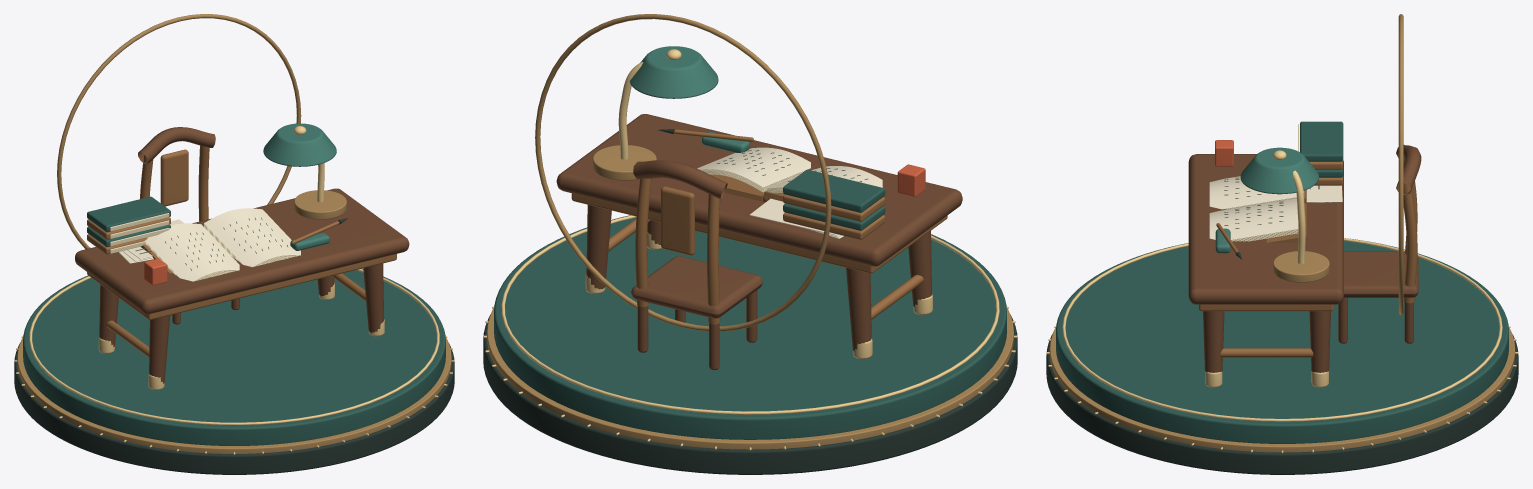
3 views of the same model, side by side, from view 1: azimuth 30°, elevation 25°; view 2: azimuth 150°, elevation 25°; view 3: azimuth 270°, elevation 25° (orthographic). The views are drawn at different scales.
Parts seen in each view (by area): view 1: architecture__深墨玉 · polished jade.002, architecture__深色书案.001, architecture__玄色石.002, architecture__旧黄铜.002, architecture__宣纸.001, architecture__木纹边.001, architecture__暖金镶线.002, architecture__青绿石.001, architecture__旧书页.001, architecture__朱砂花.001; view 2: architecture__深墨玉 · polished jade.002, architecture__深色书案.001, architecture__玄色石.002, architecture__旧黄铜.002, architecture__木纹边.001, architecture__暖金镶线.002, architecture__宣纸.001, architecture__青绿石.001, architecture__朱砂花.001, architecture__旧书页.001; view 3: architecture__深墨玉 · polished jade.002, architecture__深色书案.001, architecture__玄色石.002, architecture__旧黄铜.002, architecture__宣纸.001, architecture__暖金镶线.002, architecture__木纹边.001, architecture__青绿石.001, architecture__朱砂花.001.
Part boxes in pixels (x1,y1,x2,y2): architecture__深墨玉 · polished jade.002: (23, 196, 445, 445); architecture__深色书案.001: (75, 127, 409, 383); architecture__玄色石.002: (14, 218, 454, 474); architecture__旧黄铜.002: (17, 14, 451, 453); architecture__宣纸.001: (118, 208, 300, 281); architecture__木纹边.001: (87, 145, 396, 357); architecture__暖金镶线.002: (14, 126, 454, 454); architecture__青绿石.001: (263, 123, 336, 250); architecture__旧书页.001: (110, 213, 298, 280); architecture__朱砂花.001: (144, 258, 167, 285); architecture__深墨玉 · polished jade.002: (494, 169, 1006, 439); architecture__深色书案.001: (556, 114, 962, 369); architecture__玄色石.002: (483, 129, 1017, 474); architecture__旧黄铜.002: (487, 14, 1013, 449); architecture__木纹边.001: (571, 129, 947, 324); architecture__暖金镶线.002: (483, 49, 1017, 450); architecture__宣纸.001: (697, 147, 882, 238); architecture__青绿石.001: (629, 46, 749, 152); architecture__朱砂花.001: (897, 164, 925, 196); architecture__旧书页.001: (701, 169, 882, 193); architecture__深墨玉 · polished jade.002: (1056, 121, 1508, 443); architecture__深色书案.001: (1188, 145, 1421, 372); architecture__玄色石.002: (1046, 251, 1518, 474); architecture__旧黄铜.002: (1049, 14, 1515, 452); architecture__宣纸.001: (1209, 176, 1342, 240); architecture__暖金镶线.002: (1046, 150, 1518, 453); architecture__木纹边.001: (1199, 160, 1417, 357); architecture__青绿石.001: (1215, 147, 1318, 253); architecture__朱砂花.001: (1215, 140, 1233, 166).
Size of the model in its own units: 3.5 by 2.85 by 3.5.
